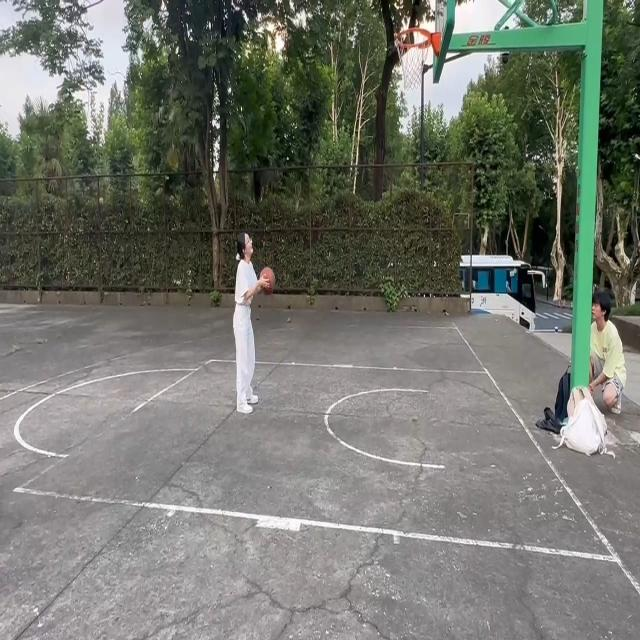basketball: (395, 26, 441, 86)
